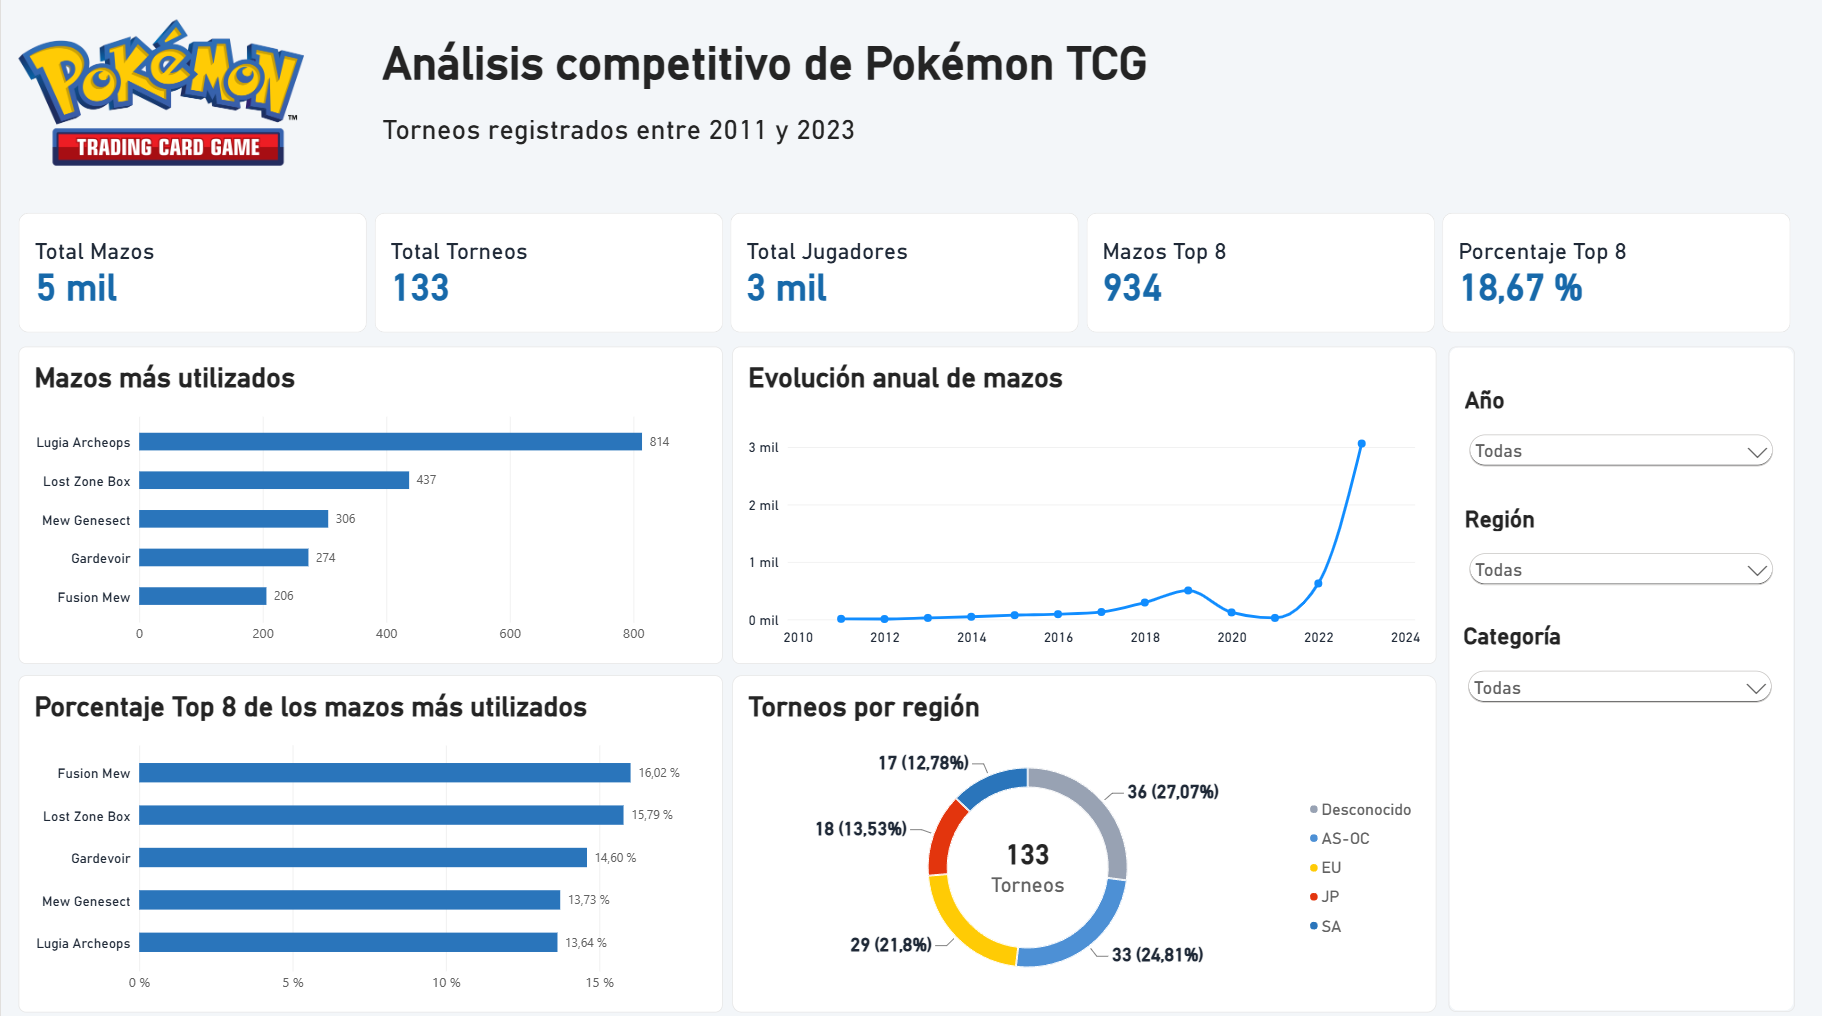

This screenshot's page, from the dashboard's own definition file:
{"tool":"powerbi","page":{"name":"Resumen","canvas":[1920,1080],"ordinal":0},"visuals":[{"type":"shape","box":[1520.6,365.3,363.7,699.2],"z":0},{"type":"textbox","box":[400,40,900,80],"z":1000},{"type":"textbox","box":[400,120,900,80],"z":2000},{"type":"image","box":[18.2,18.2,300.2,159.9],"z":3000},{"type":"cardVisual","fields":{"Data":["pokemon_tcg_mazos.Total Mazos","pokemon_tcg_mazos.Total Torneos","pokemon_tcg_mazos.Total Jugadores","pokemon_tcg_mazos.Mazos Top 8","pokemon_tcg_mazos.Porcentaje Top 8"]},"box":[18.3,224.2,1865.4,126.6],"z":4000},{"type":"clusteredBarChart","title":"Mazos más utilizados","fields":{"Category":["pokemon_tcg_mazos.combo_type_name"],"Y":["pokemon_tcg_mazos.Total Mazos"]},"box":[18,364.8,740.2,333.3],"z":5000},{"type":"lineChart","title":"Evolución anual de mazos","fields":{"Category":["pokemon_tcg_mazos.year_tournament"],"Y":["pokemon_tcg_mazos.Total Mazos"]},"box":[768.7,364.8,740.2,333.3],"z":6000},{"type":"clusteredBarChart","title":"Porcentaje Top 8 de los mazos más utilizados","fields":{"Category":["pokemon_tcg_mazos.combo_type_name"],"Y":["pokemon_tcg_mazos.Porcentaje Top 8"]},"box":[18,710.2,740.2,354.3],"z":7000},{"type":"donutChart","title":"Torneos por región","fields":{"Category":["pokemon_tcg_mazos.region_tournament"],"Y":["pokemon_tcg_mazos.Total Torneos"]},"box":[768.7,710.2,740.2,354.3],"z":8000},{"type":"slicer","title":"Año","fields":{"Values":["pokemon_tcg_mazos.year_tournament"]},"box":[1537.8,407.6,329.2,86.2],"z":9000},{"type":"slicer","title":"Región","fields":{"Values":["pokemon_tcg_mazos.region_tournament"]},"box":[1537.8,531.4,329.2,86.2],"z":10000},{"type":"slicer","title":"Categoría","fields":{"Values":["pokemon_tcg_mazos.category_tournament"]},"box":[1536.3,655.3,329.2,86.2],"z":11000}]}

Visuals, with their boxes in screenshot pixels (x1, y1, x2, y2), scaled from the page's 1920x1080 canvas onto the 1822x1016 screenshot:
shape: {"x1": 1443, "y1": 344, "x2": 1788, "y2": 1001}
textbox: {"x1": 380, "y1": 38, "x2": 1234, "y2": 113}
textbox: {"x1": 380, "y1": 113, "x2": 1234, "y2": 188}
image: {"x1": 17, "y1": 17, "x2": 302, "y2": 168}
cardVisual - pokemon_tcg_mazos.Total Mazos x pokemon_tcg_mazos.Total Torneos: {"x1": 17, "y1": 211, "x2": 1788, "y2": 330}
"Mazos más utilizados" clusteredBarChart: {"x1": 17, "y1": 343, "x2": 720, "y2": 657}
"Evolución anual de mazos" lineChart: {"x1": 729, "y1": 343, "x2": 1432, "y2": 657}
"Porcentaje Top 8 de los mazos más utilizados" clusteredBarChart: {"x1": 17, "y1": 668, "x2": 720, "y2": 1001}
"Torneos por región" donutChart: {"x1": 729, "y1": 668, "x2": 1432, "y2": 1001}
"Año" slicer: {"x1": 1459, "y1": 383, "x2": 1772, "y2": 465}
"Región" slicer: {"x1": 1459, "y1": 500, "x2": 1772, "y2": 581}
"Categoría" slicer: {"x1": 1458, "y1": 616, "x2": 1770, "y2": 698}
